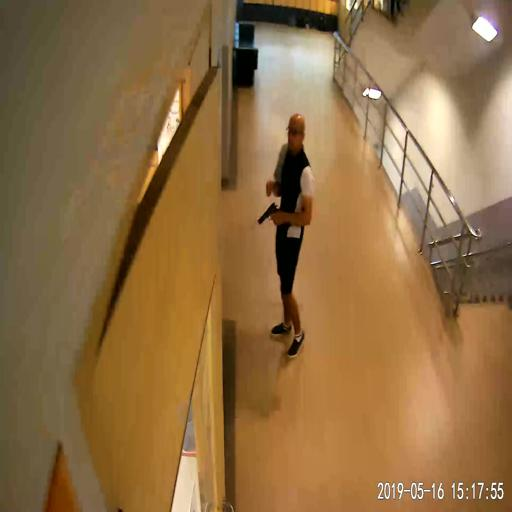pistol: (257, 203, 277, 225)
